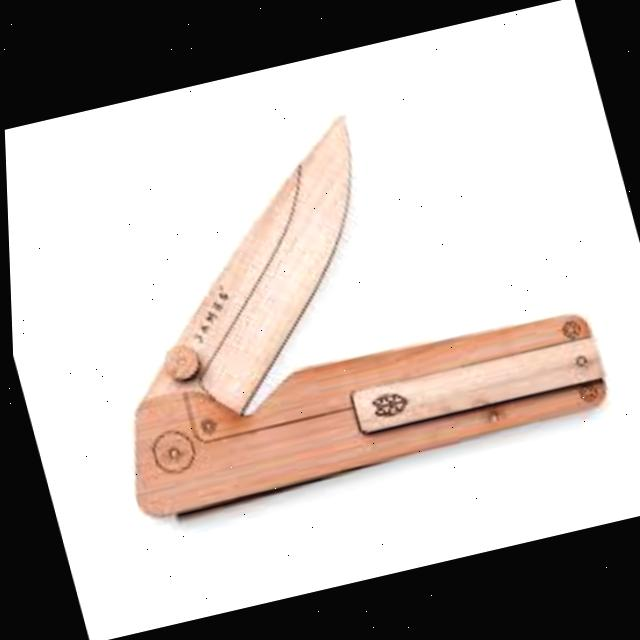Knife: (44, 71, 613, 522)
